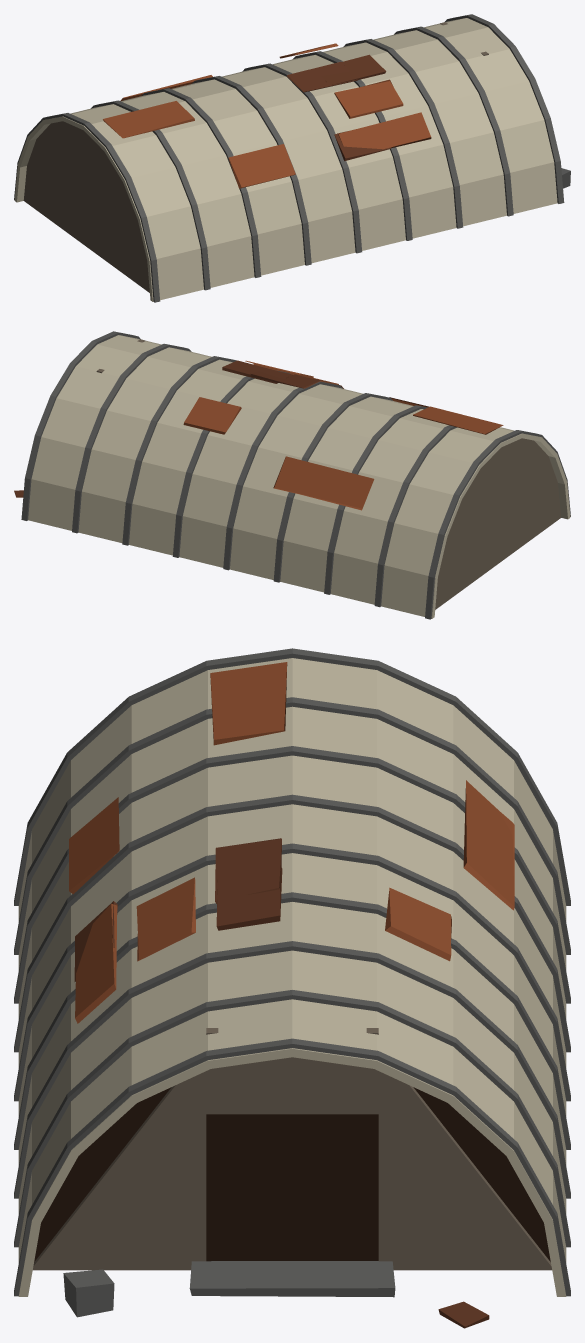
Rendered from quonset.glb.
The picture shows the model from 3 angles, top to bottom: view 1: azimuth 30°, elevation 25°; view 2: azimuth 150°, elevation 25°; view 3: azimuth 270°, elevation 25°; orthographic projection. The views are drawn at different scales.
Parts seen in each view (by area): view 1: quonset; view 2: quonset; view 3: quonset.
Boxes of the visible parts, box(x1,y1,x2,y2) form: quonset: box(14, 14, 570, 302); quonset: box(14, 331, 570, 619); quonset: box(14, 648, 570, 1328).
Bounding box in the file's own units: 12.98 × 3.67 × 7.12.
